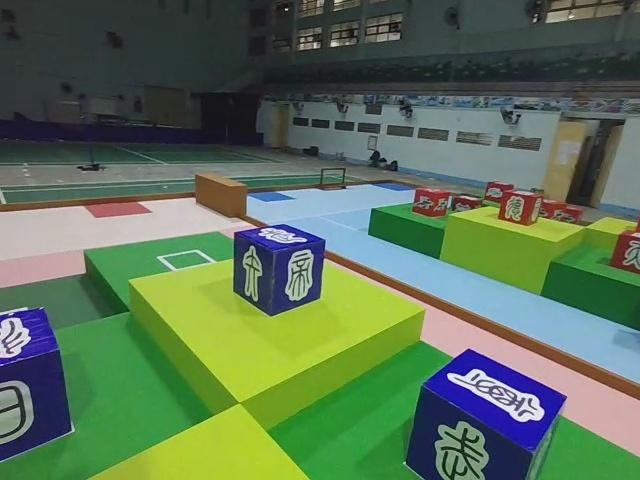R2 Fake Blue: (408, 353, 567, 480), (0, 305, 73, 474), (233, 225, 327, 319)
